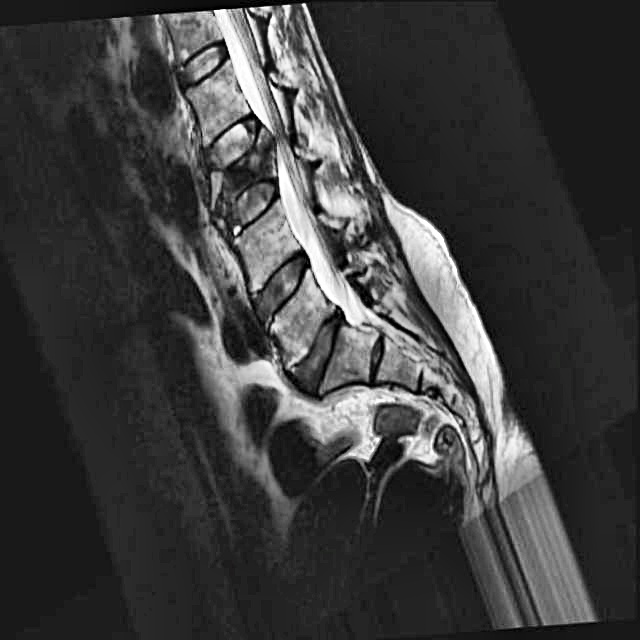Comminuted: (191, 103, 291, 245)
